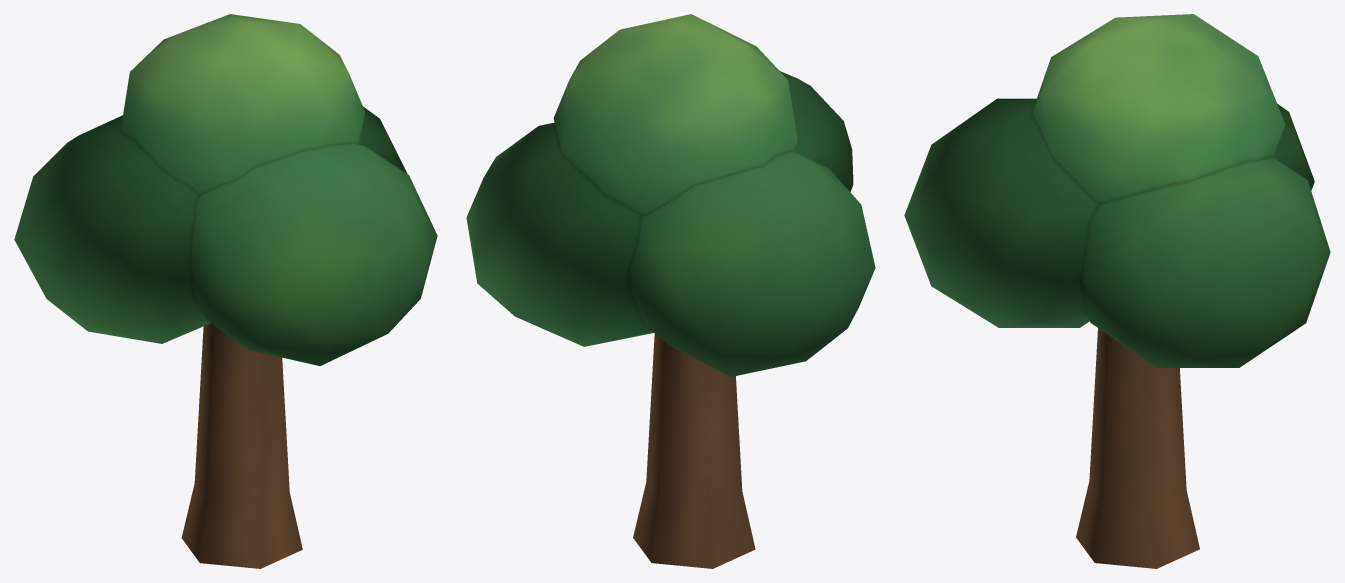
File: tree_round.glb
3 renders of one model, left to right at view 1: azimuth 30°, elevation 25°; view 2: azimuth 150°, elevation 25°; view 3: azimuth 270°, elevation 25°, orthographic. The views are drawn at different scales.
Visible parts, largest first — view 1: tree_round; view 2: tree_round; view 3: tree_round.
Boxes of the visible parts, x1=… form: tree_round: x1=14, y1=14, x2=437, y2=568; tree_round: x1=466, y1=14, x2=875, y2=568; tree_round: x1=904, y1=14, x2=1330, y2=568.
Bounding box in the file's own units: 0.4625 × 0.6293 × 0.462.
Materials: 1 (1 with a texture image).
